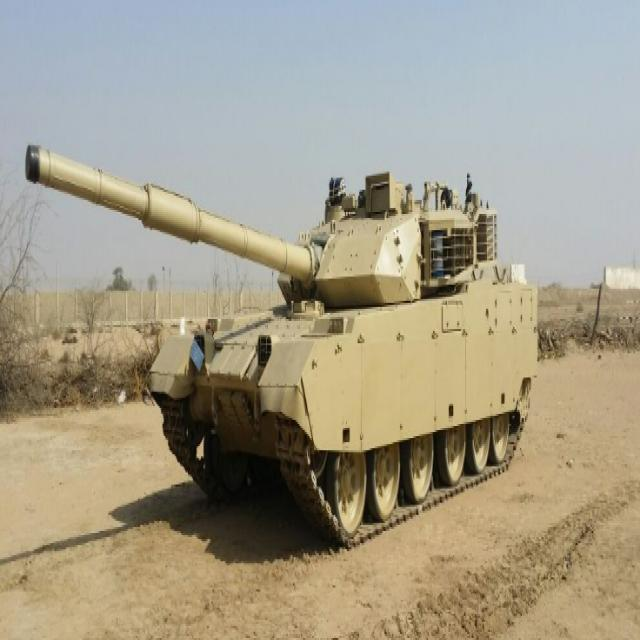tank: (15, 69, 541, 485)
